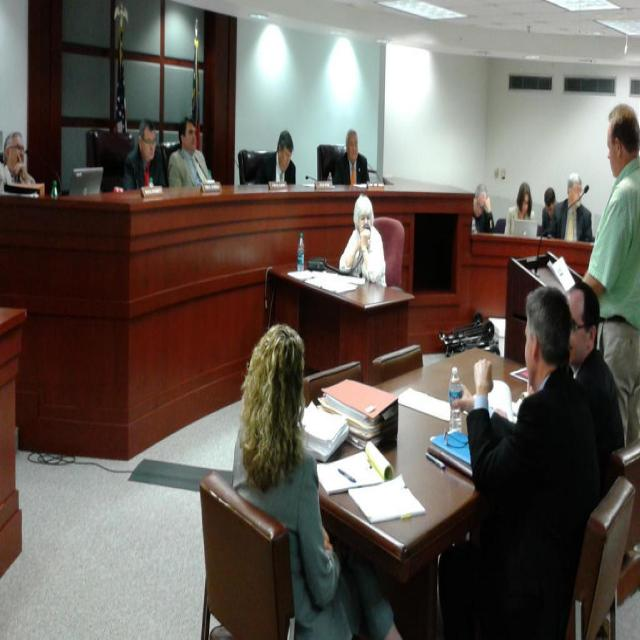chair: (198, 470, 300, 638), (563, 477, 635, 638), (303, 359, 362, 403), (374, 216, 405, 288), (371, 343, 423, 380)
desk: (312, 342, 570, 638)
laptop: (69, 166, 104, 197)
person: (438, 286, 602, 634), (230, 323, 401, 635), (582, 103, 640, 445), (564, 272, 626, 493), (339, 194, 387, 282), (168, 117, 218, 188), (122, 118, 168, 192), (554, 174, 593, 244), (0, 131, 42, 193), (332, 129, 369, 188), (504, 182, 534, 236), (271, 130, 296, 186), (471, 182, 494, 233), (540, 186, 559, 238)
